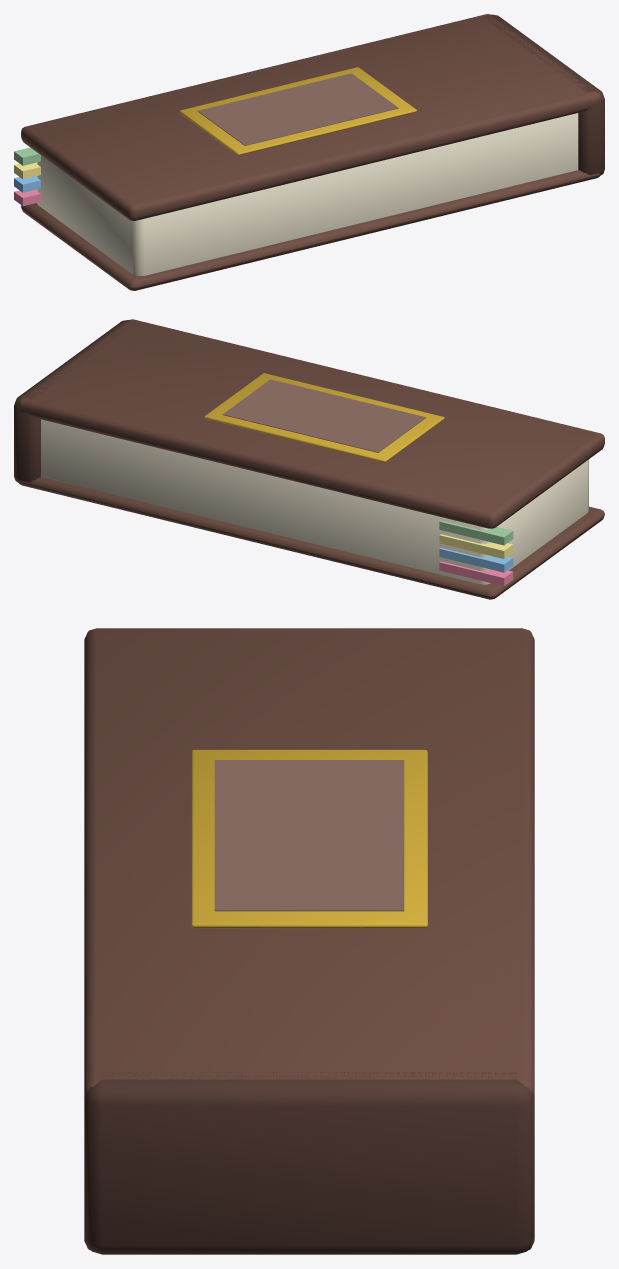
File: photo_album.fbx
3 views of the same model, one above another, from view 1: azimuth 30°, elevation 25°; view 2: azimuth 150°, elevation 25°; view 3: azimuth 270°, elevation 25° (orthographic). The views are drawn at different scales.
Visible parts, largest first — view 1: Photo Album; view 2: Photo Album; view 3: Photo Album.
Boxes of the visible parts, left/top/right/bottom form: Photo Album: left=14, top=14, right=604, bottom=290; Photo Album: left=14, top=319, right=604, bottom=599; Photo Album: left=84, top=628, right=534, bottom=1254.
Size of the model in its own units: 1.89 by 0.332 by 0.76.
